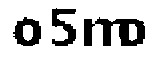5: (47, 6, 81, 51)
m: (82, 18, 125, 50)
o: (14, 15, 44, 49), (119, 15, 146, 49)
